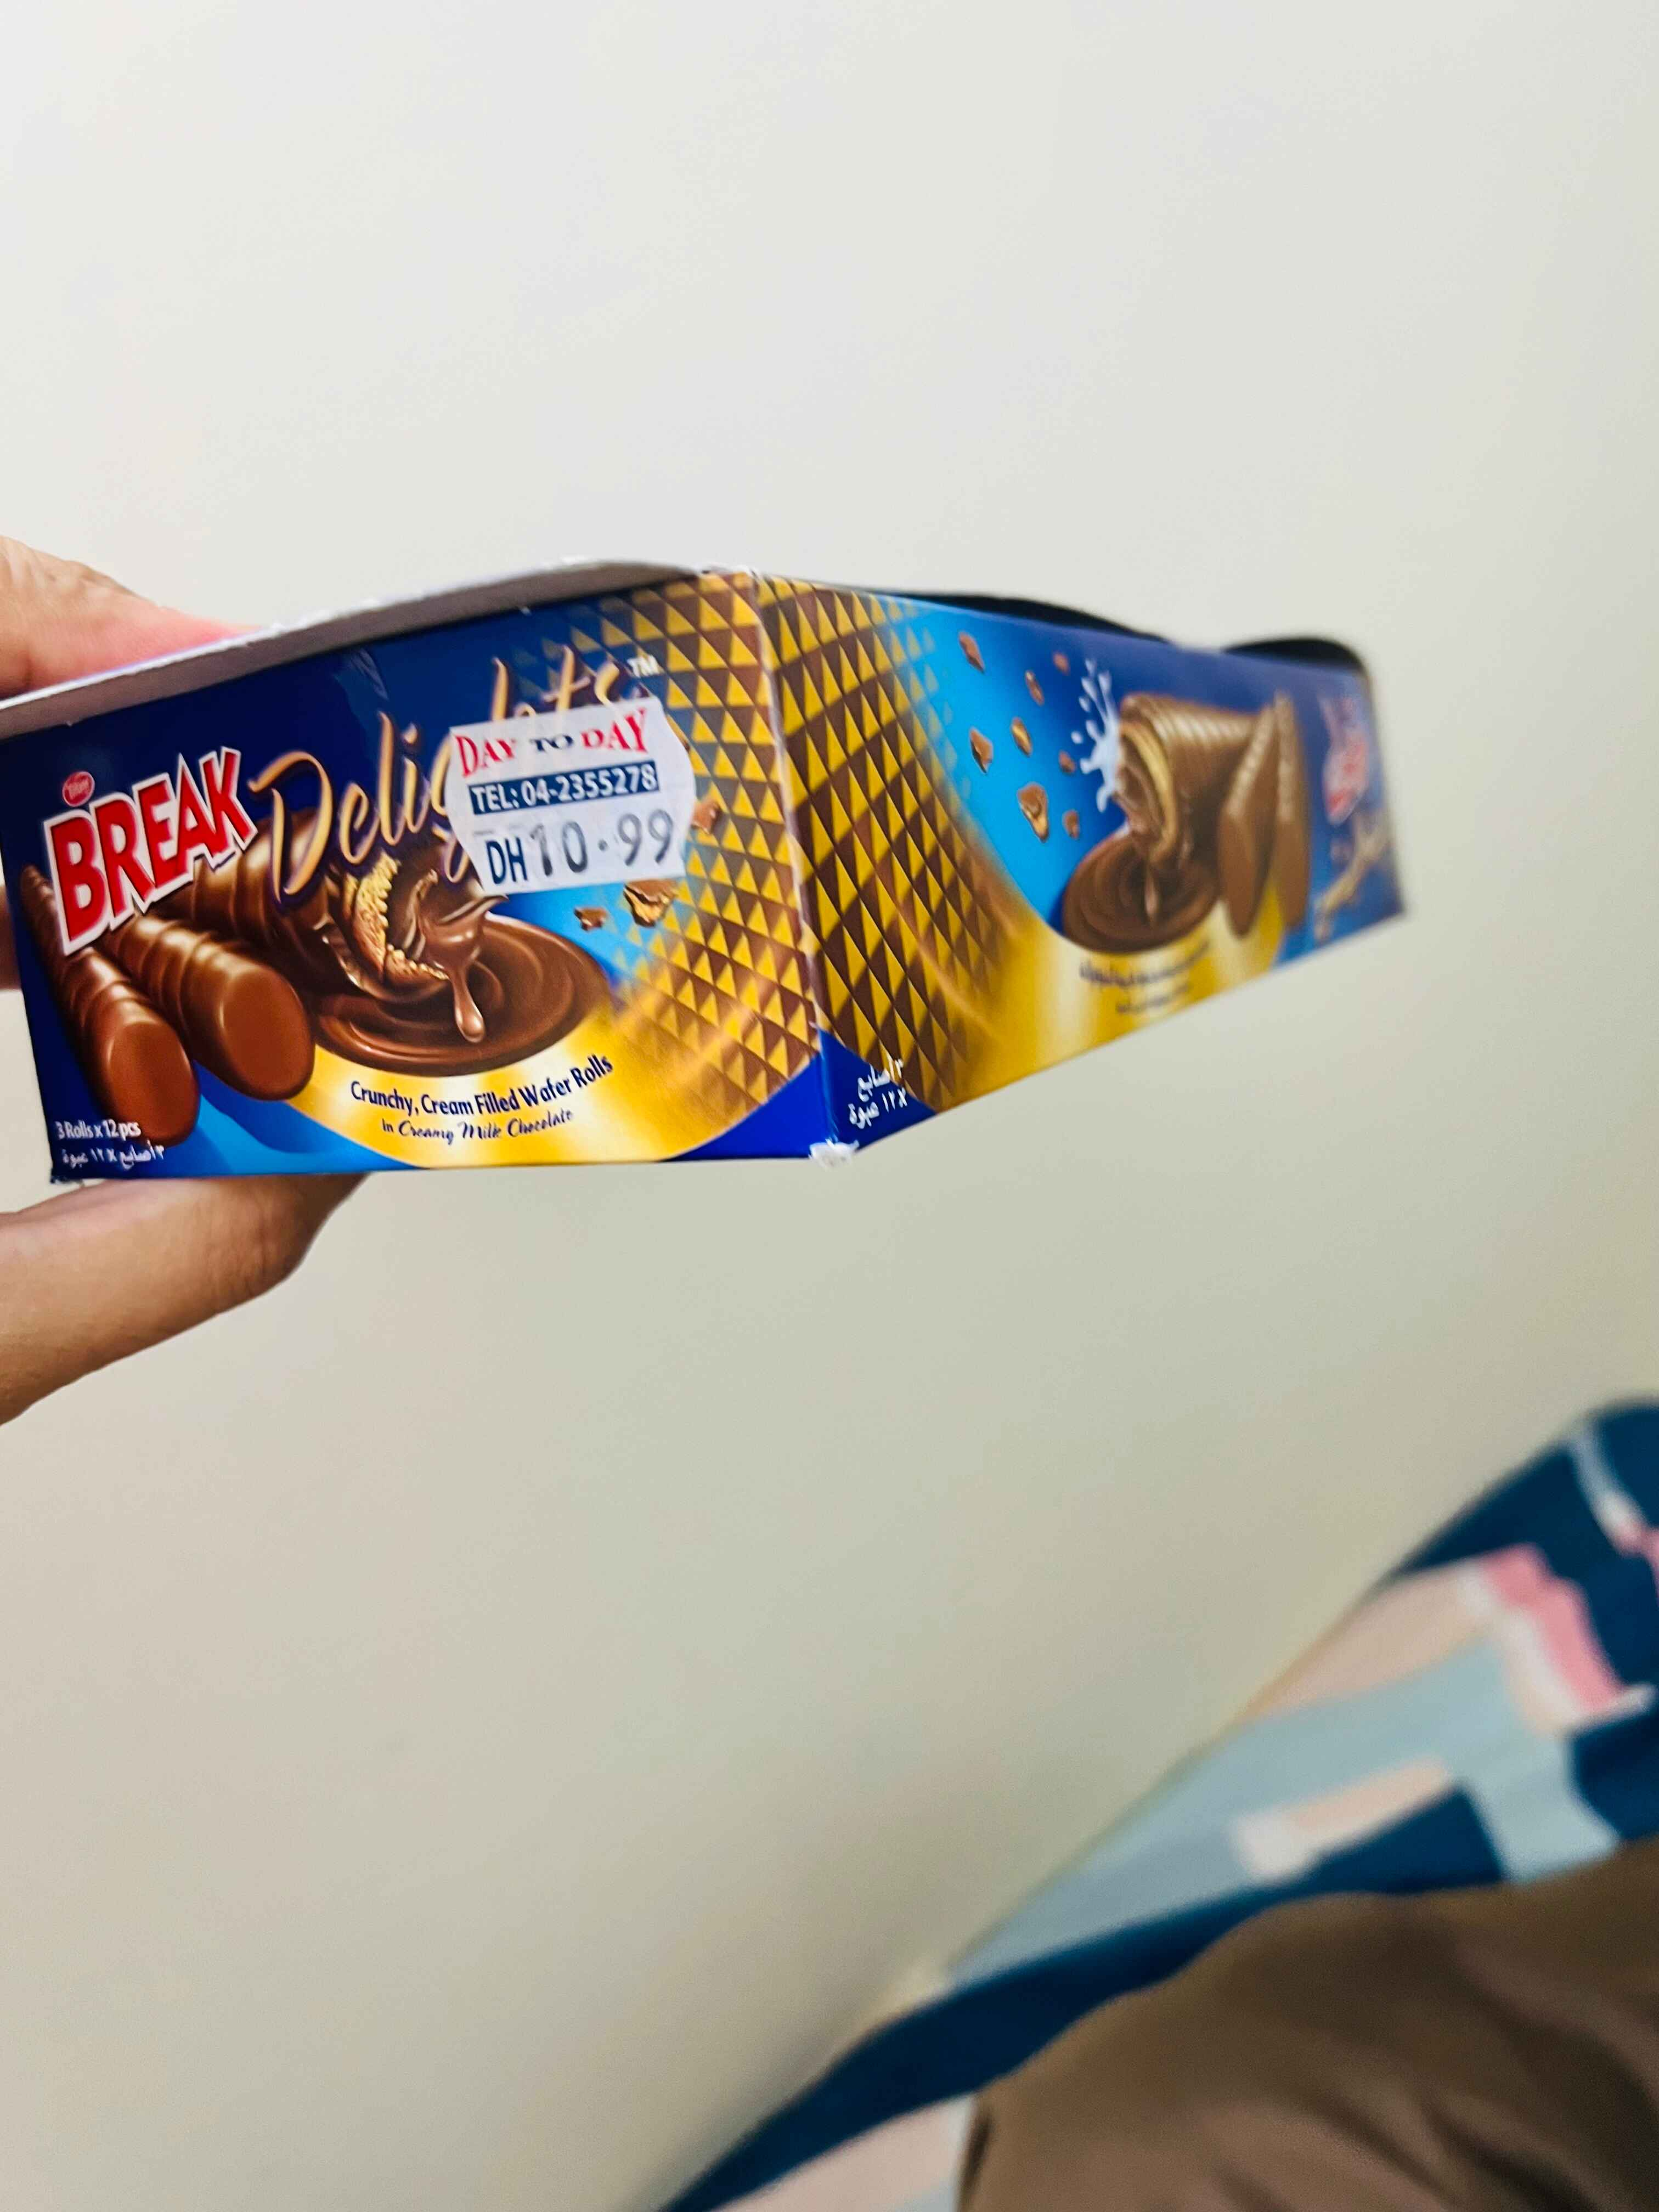PriceTagSmall: (441, 695, 704, 897)
